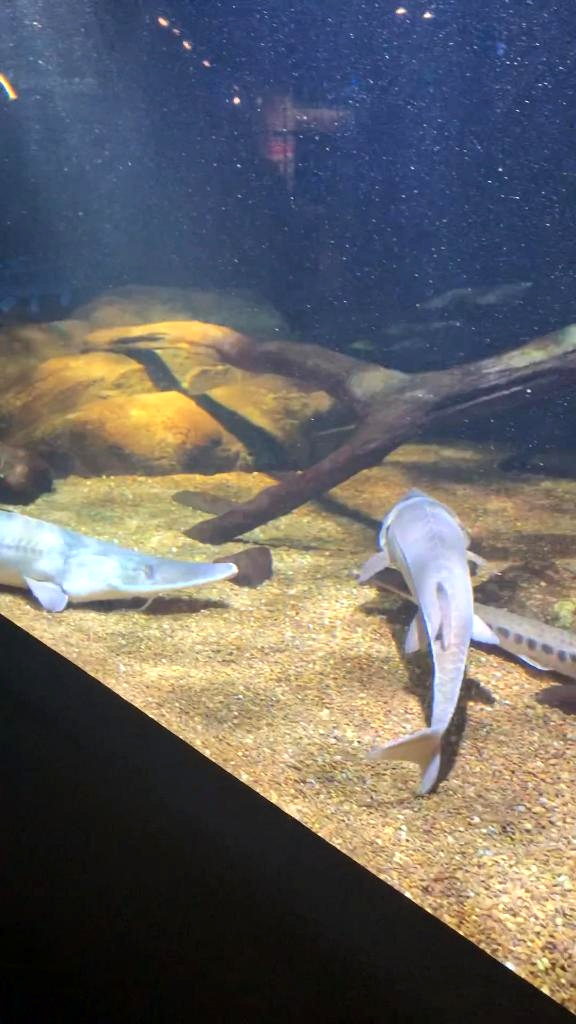fish: (351, 566, 575, 682), (0, 508, 240, 614)
shark: (355, 485, 495, 801)
